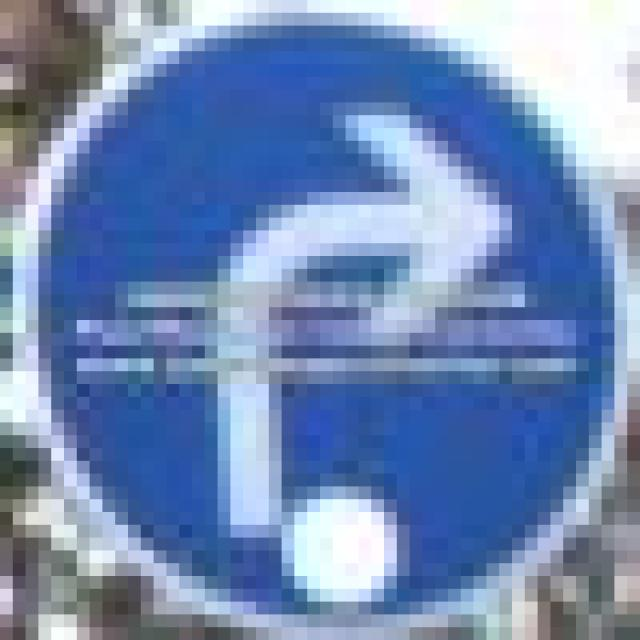railway_crossing: (26, 13, 602, 589)
